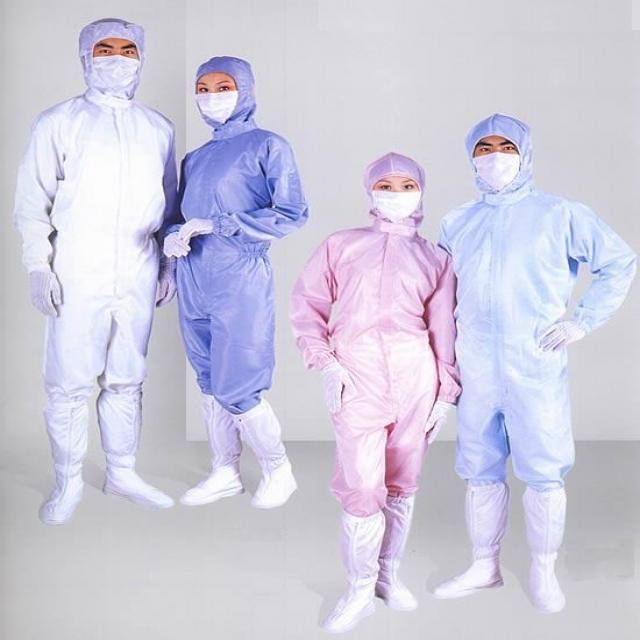mask: (89, 31, 137, 90), (472, 132, 522, 186), (371, 170, 420, 224), (195, 68, 240, 122)
